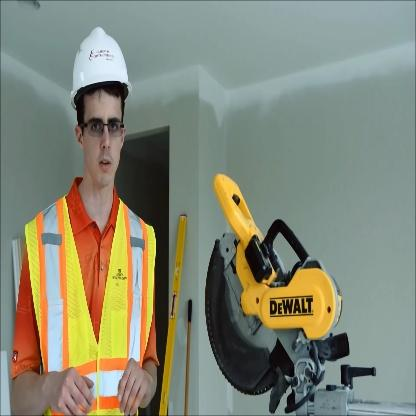helmet: (62, 23, 130, 188)
